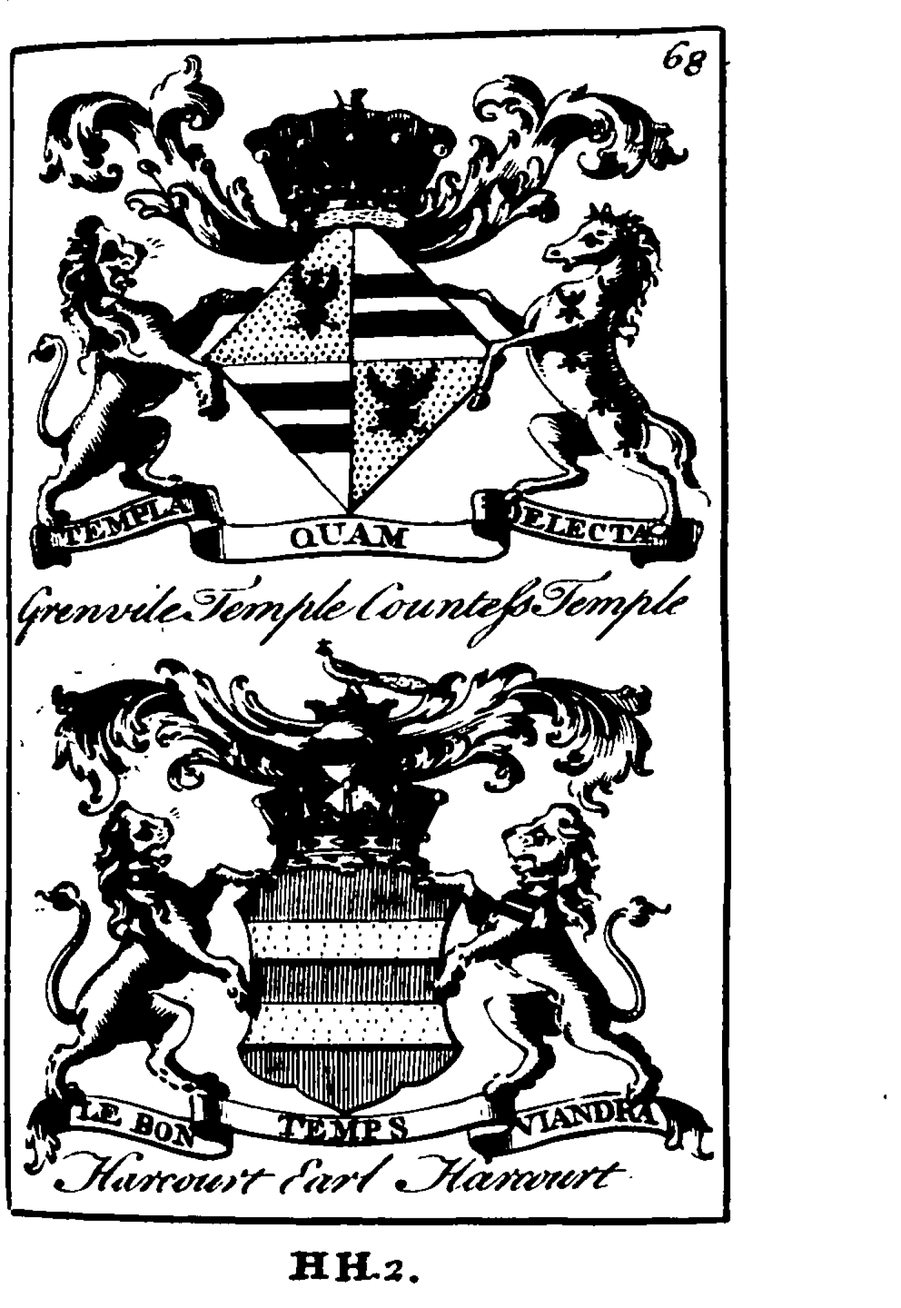coat_of_arms: (21, 55, 698, 648), (22, 648, 709, 1199)
